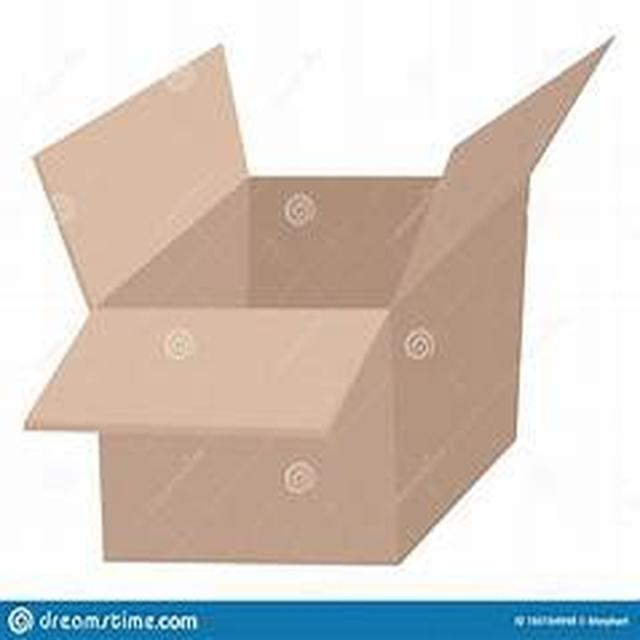box: (11, 33, 615, 570)
